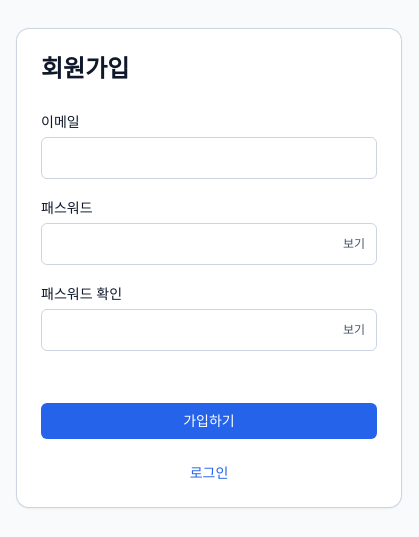
Scenario: AuthForm › 서버가 준 필드 오류를 해당 입력에 연결한다 (FR-5)
The width and height of the screenshot is (419, 537).
Type "a@test.local" into the field labelled "이메일" at coordinates (209, 158), box [41,137,377,179]
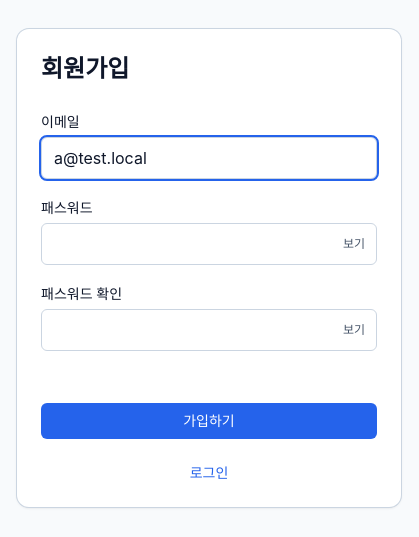
Type "password1" into the password field labelled "패스워드" at coordinates (209, 244), box [41,223,377,265]
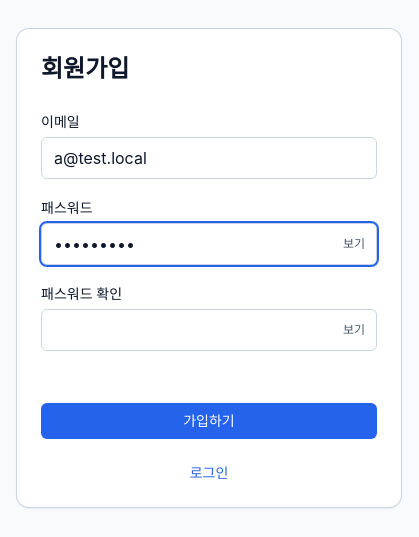
Type "password1" into the password field labelled "패스워드 확인" at coordinates (209, 330), box [41,309,377,351]
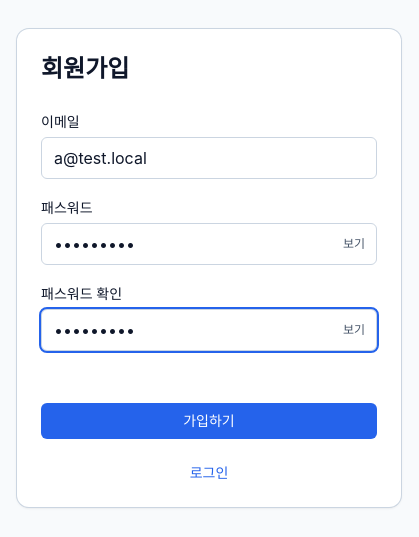
Click the button "가입하기" at coordinates (209, 421), box [41,403,377,439]
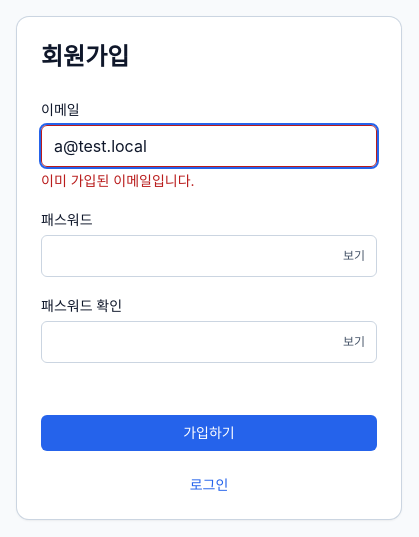
Expected: the text "이미 가입된 이메일입니다." is shown, [41,172,195,189]
